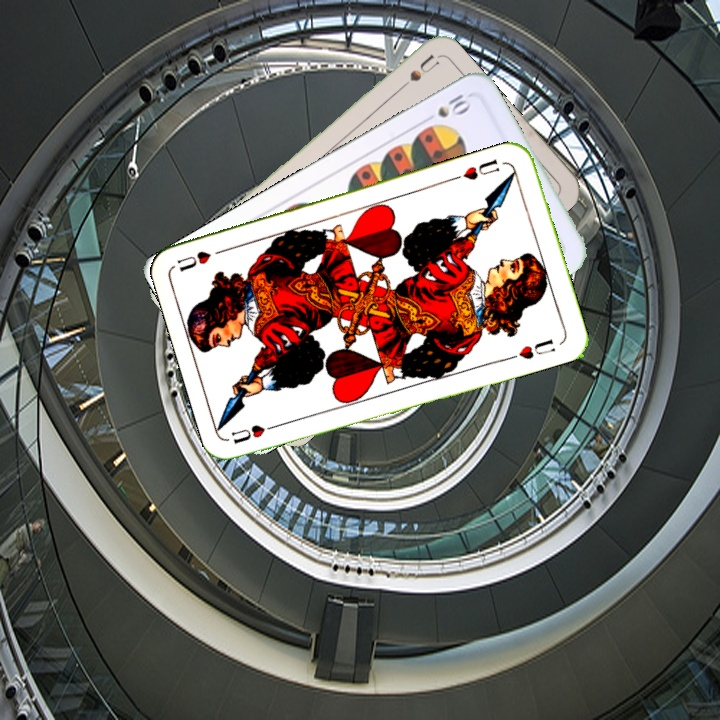HU: (227, 419, 285, 447), (451, 155, 502, 183)
S10: (418, 88, 474, 126)
SU: (390, 50, 441, 98)
